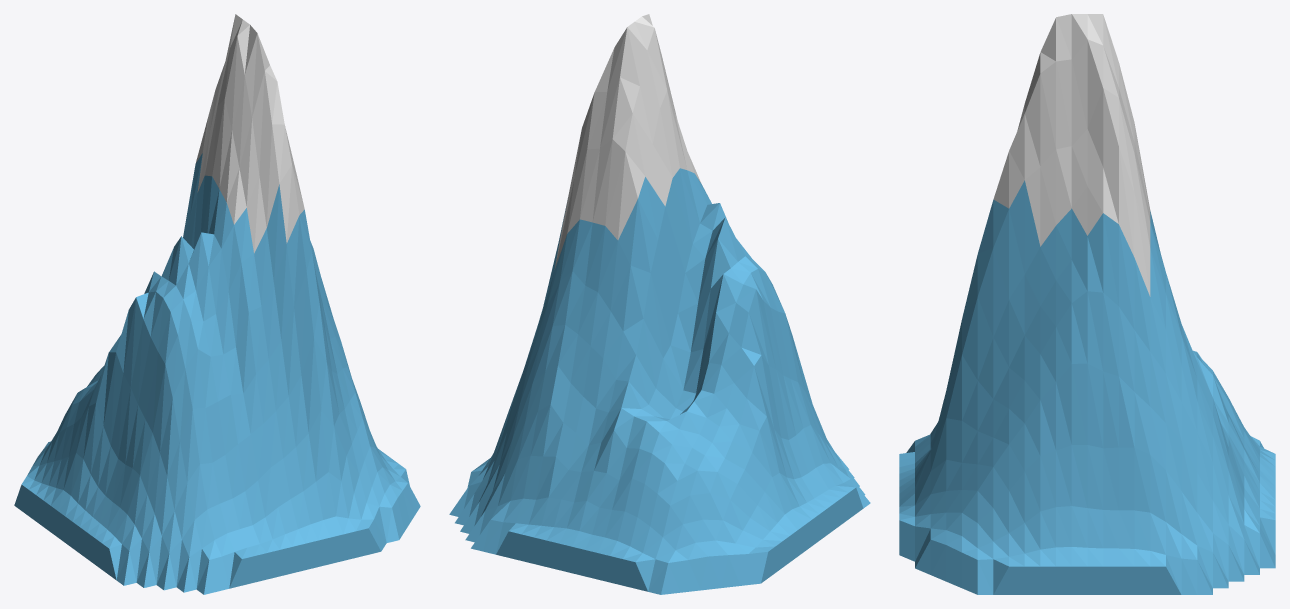
File: IceMountain1.fbx
The picture shows the model from 3 angles, left to right: view 1: azimuth 30°, elevation 25°; view 2: azimuth 150°, elevation 25°; view 3: azimuth 270°, elevation 25°; orthographic projection. The views are drawn at different scales.
Parts seen in each view (by area): view 1: Landscape; view 2: Landscape; view 3: Landscape.
Boxes of the visible parts, <box> form: Landscape: <box>14,14,420,594</box>; Landscape: <box>449,14,870,594</box>; Landscape: <box>899,14,1275,594</box>.
Bounding box in the file's own units: 1200 × 1812 × 1200.
